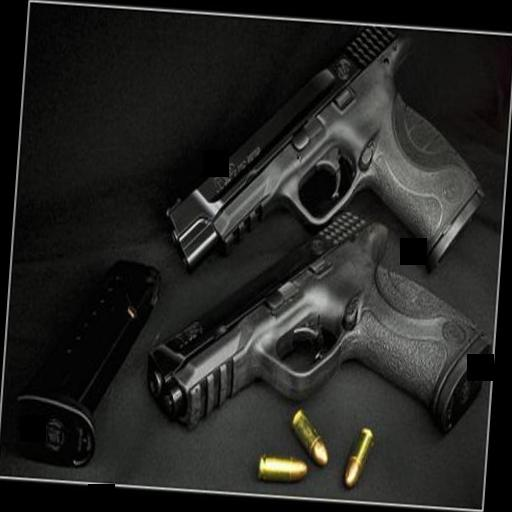Handgun: (151, 12, 495, 302), (140, 194, 494, 453)
